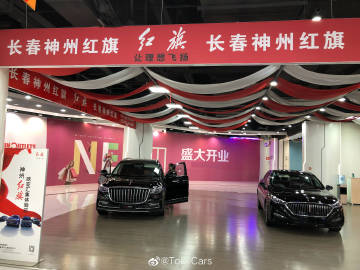other: (256, 169, 344, 232), (88, 161, 178, 220)
